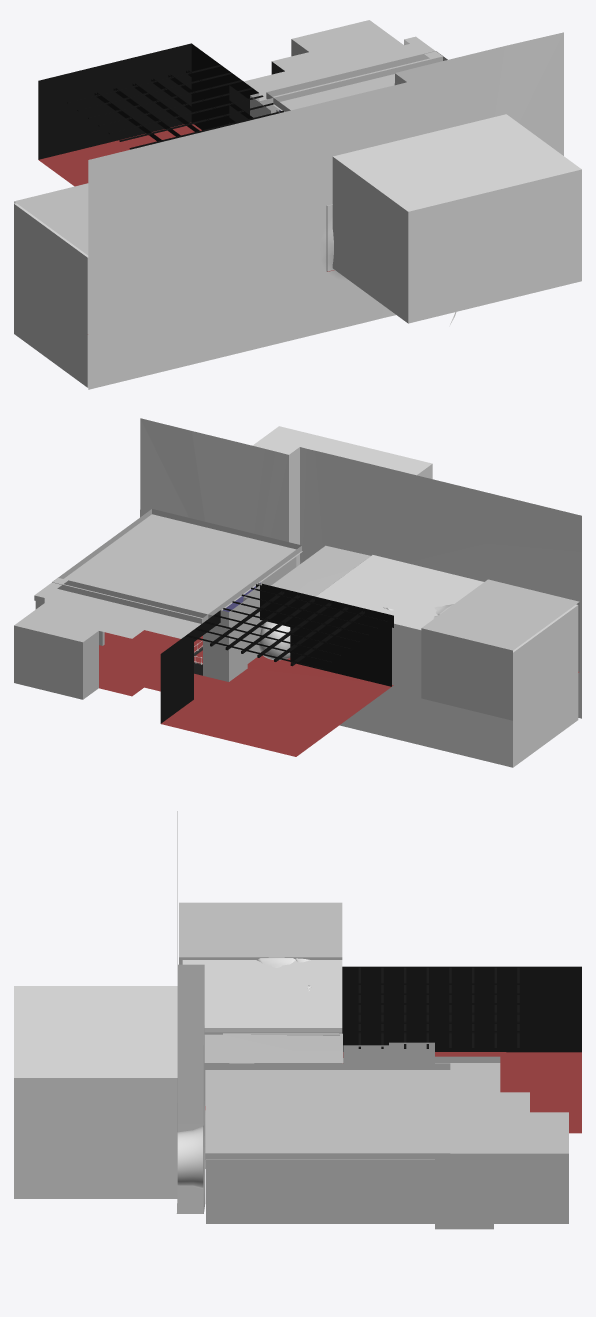
Rendered from Basic-Space-test.fbx.
3 views of the same model, one above another, from view 1: azimuth 30°, elevation 25°; view 2: azimuth 150°, elevation 25°; view 3: azimuth 270°, elevation 25° (orthographic). The views are drawn at different scales.
Parts seen in each view (by area): view 1: Mask-2, Tubes-Colider, Wall-Box-Exhibition, Mask-1, Room-01, Ceiling-02, Tubes-2side; view 2: Wall-Box-Exhibition, Mask-2, Mask-1, Ceiling-02, Room-01, Tubes-Colider, Bubble; view 3: Wall-Box-Exhibition, Tubes-Colider, Ceiling-02, Mask-1, Room-01, Mask-2, Tubes-2side.
Part boxes in pixels (left/top/right/bottom): Mask-2: left=88, top=32, right=563, bottom=389; Tubes-Colider: left=332, top=114, right=581, bottom=323; Wall-Box-Exhibition: left=38, top=20, right=442, bottom=271; Mask-1: left=14, top=203, right=88, bottom=387; Room-01: left=14, top=183, right=88, bottom=255; Ceiling-02: left=266, top=51, right=447, bottom=111; Tubes-2side: left=306, top=201, right=456, bottom=324; Wall-Box-Exhibition: left=14, top=545, right=393, bottom=756; Mask-2: left=140, top=418, right=581, bottom=718; Mask-1: left=316, top=555, right=578, bottom=767; Ceiling-02: left=52, top=509, right=301, bottom=623; Room-01: left=421, top=579, right=579, bottom=720; Tubes-Colider: left=253, top=426, right=432, bottom=478; Bubble: left=259, top=621, right=290, bottom=660; Wall-Box-Exhibition: left=204, top=966, right=581, bottom=1229; Tubes-Colider: left=14, top=986, right=177, bottom=1198; Ceiling-02: left=205, top=1063, right=450, bottom=1159; Mask-1: left=182, top=960, right=342, bottom=1168; Room-01: left=179, top=902, right=342, bottom=964; Mask-2: left=176, top=811, right=205, bottom=1213; Tubes-2side: left=177, top=1126, right=205, bottom=1189.
Size of the model in its own units: 44.73 by 20.18 by 41.65.
